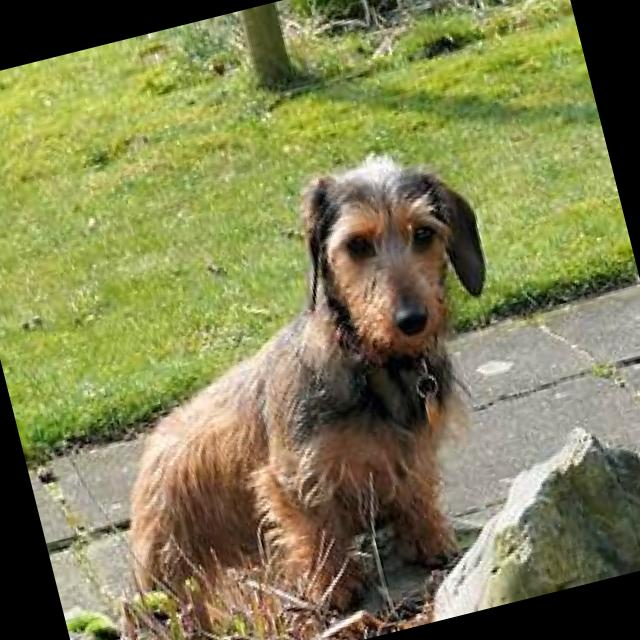animal: (47, 128, 565, 640)
